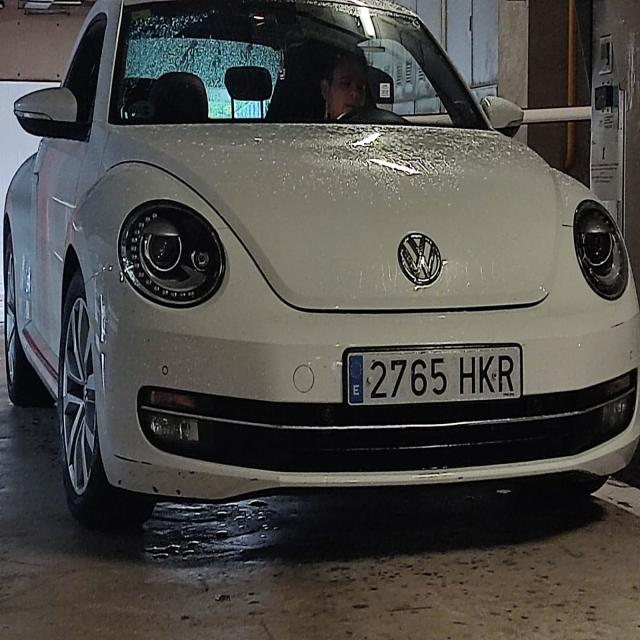plates: (348, 345, 521, 405)
